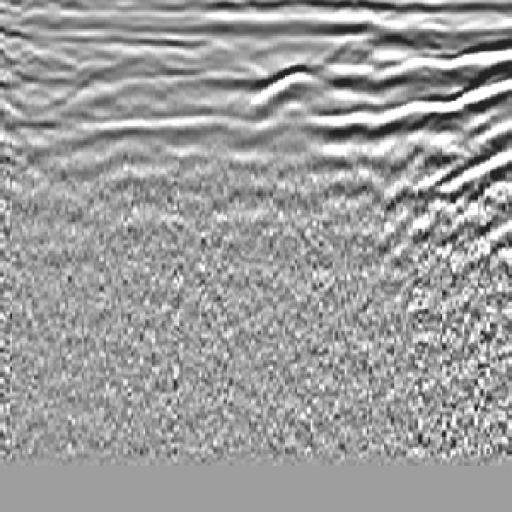metalic: (235, 54, 352, 111)
